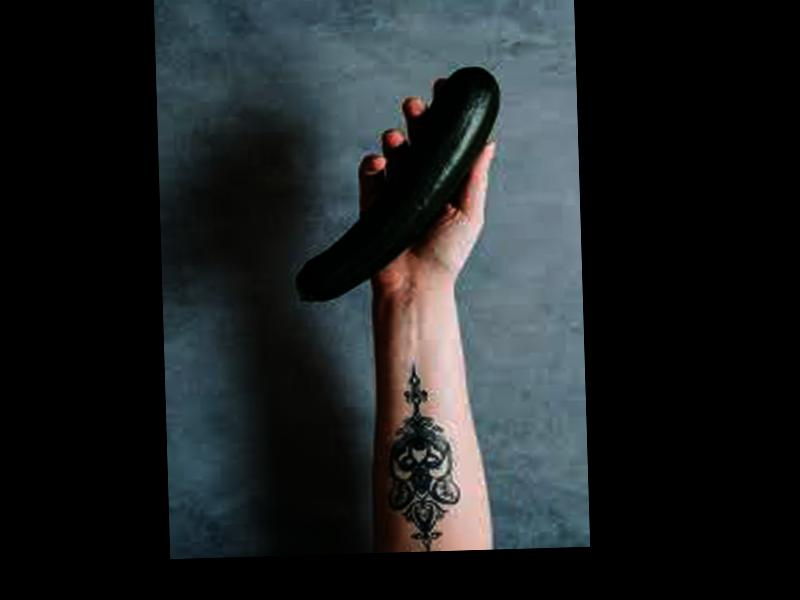Cucumber: (291, 66, 504, 300)
